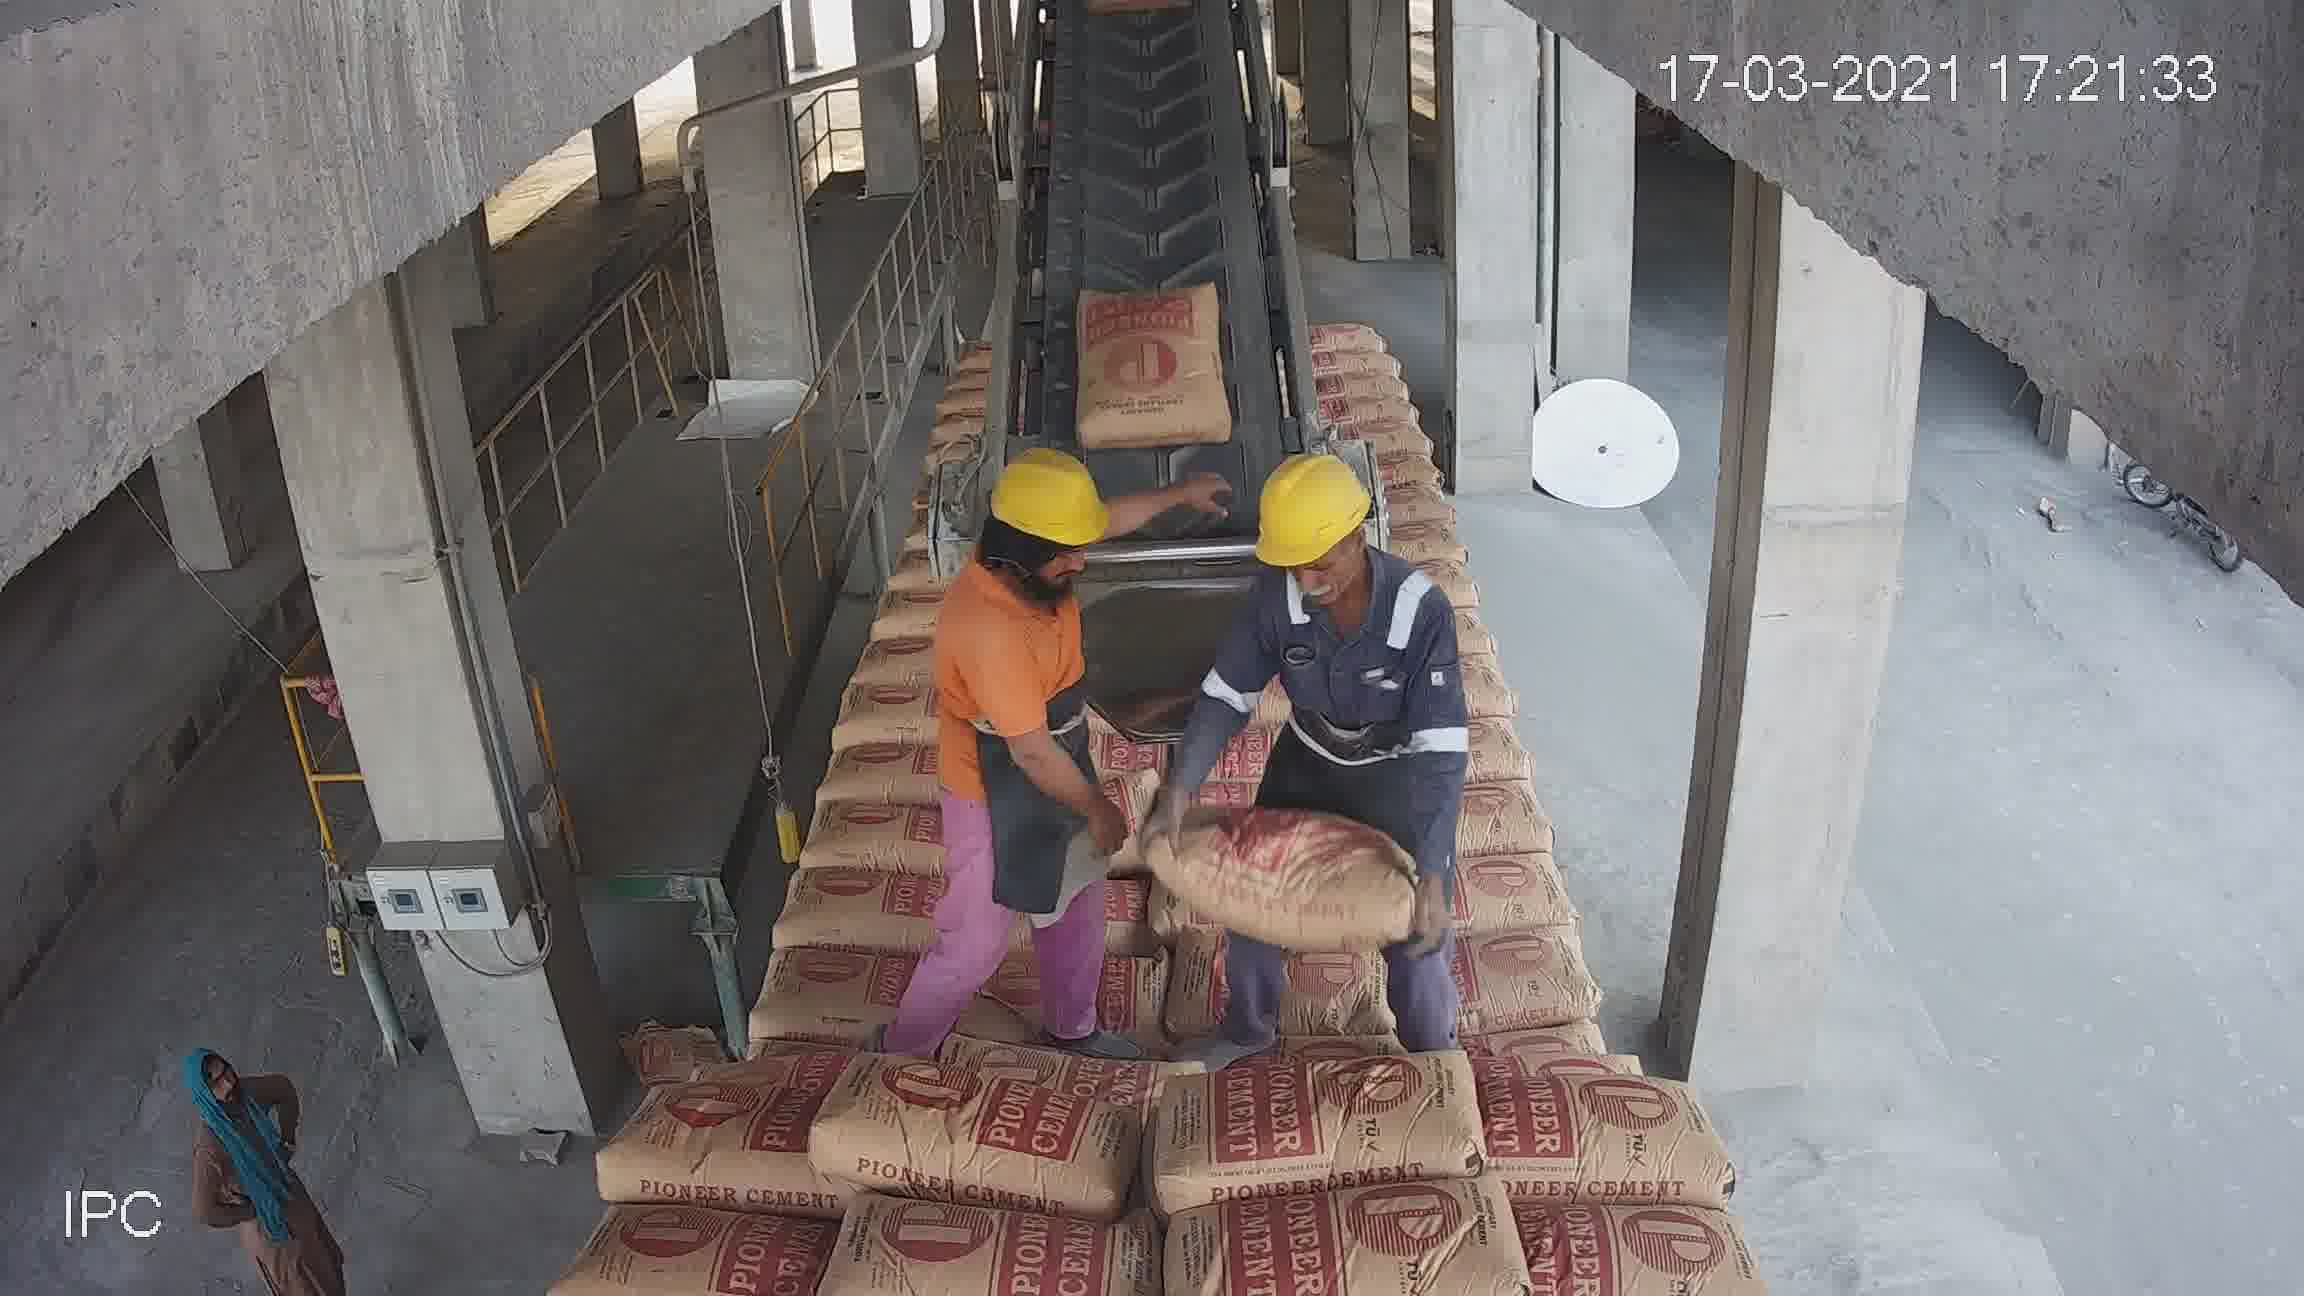bag_h: (1147, 1044, 1497, 1225), (782, 1078, 1180, 1223), (1155, 929, 1468, 1084), (1147, 824, 1434, 976), (1158, 1179, 1513, 1296), (862, 934, 1158, 1073), (1131, 718, 1396, 851), (582, 1076, 823, 1217), (1480, 1070, 1733, 1203), (1423, 832, 1635, 987), (896, 839, 1161, 957), (633, 967, 885, 1089), (802, 1211, 1157, 1294), (695, 842, 911, 964), (896, 744, 1152, 843), (543, 1220, 826, 1296), (1400, 753, 1590, 866), (1454, 967, 1688, 1055), (1516, 1192, 1768, 1274), (714, 786, 892, 873), (1003, 559, 1184, 635), (999, 661, 1185, 731), (1176, 514, 1320, 578), (1147, 567, 1282, 631), (1405, 699, 1513, 772), (1051, 527, 1179, 587), (1011, 628, 1166, 676), (999, 722, 1165, 763), (888, 464, 1013, 511), (1166, 620, 1260, 684), (1412, 649, 1502, 712), (897, 514, 1036, 544), (935, 549, 1036, 579)
belt: (1017, 0, 1293, 492)
